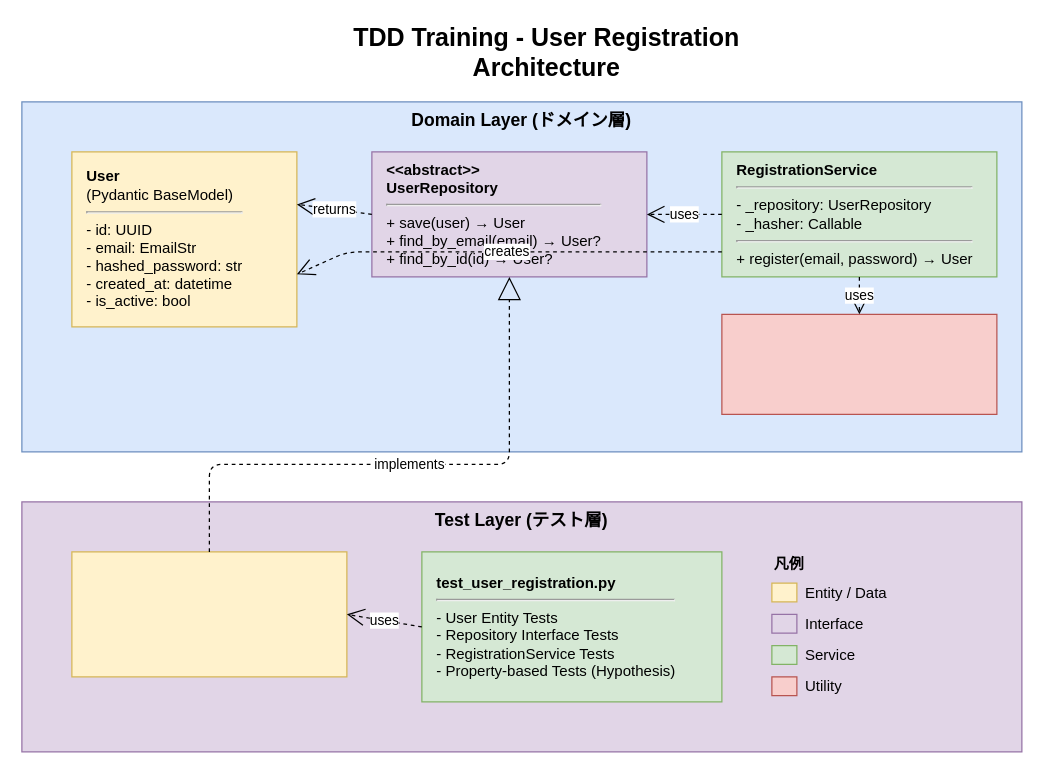
The diagram is 1044 pixels wide and 774 high, and some of its shapes have lost their labels. The centre of each missing label's shape, as x and y in pixels:
"InMemoryUserRepository (テスト用実装) - _users: dict + save/find_by_email/find_by_id" goes at (x=209, y=614).
"password.py + hash_password(pwd) → str + verify_password(pwd, hash) → bool" goes at (x=859, y=363).
